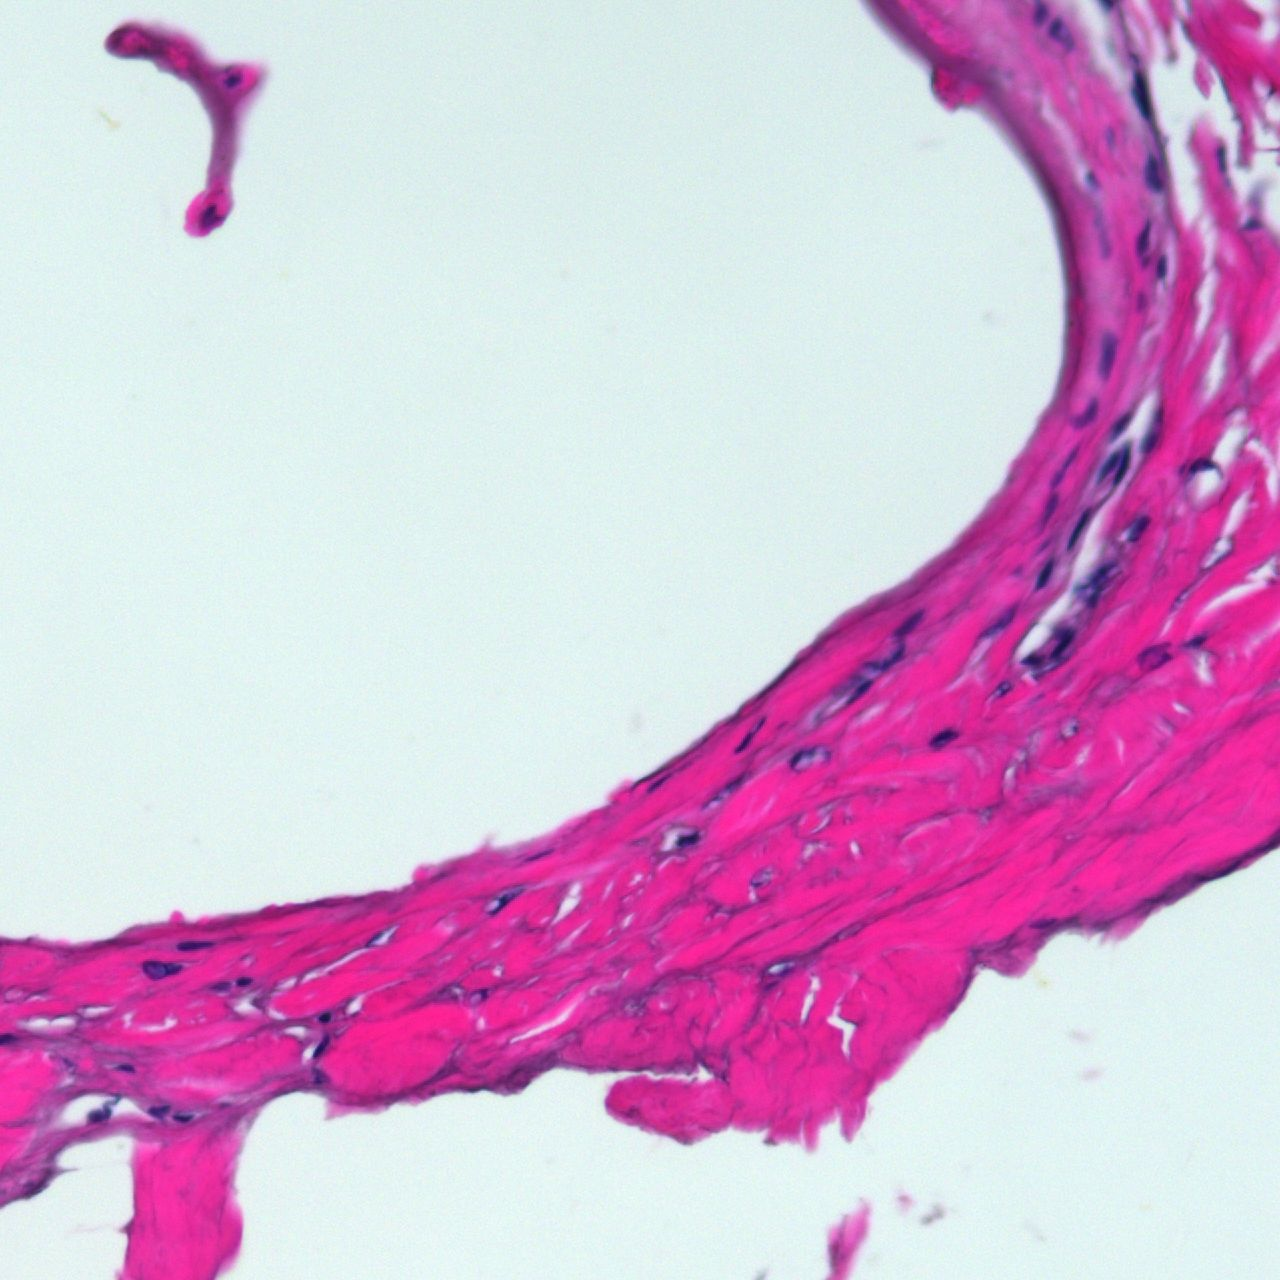nucleus-HE: (1124, 68, 1156, 121), (1061, 506, 1093, 551), (1094, 335, 1119, 379), (1111, 446, 1134, 488), (1030, 559, 1057, 592), (927, 725, 958, 753), (1097, 448, 1122, 479), (142, 960, 181, 979), (310, 1034, 332, 1059), (1147, 157, 1161, 190), (177, 940, 214, 950), (86, 1106, 105, 1124), (678, 832, 698, 845), (147, 1106, 170, 1117), (1157, 256, 1167, 277), (116, 1063, 136, 1072), (236, 975, 251, 986), (318, 1012, 331, 1023), (173, 1114, 192, 1121)
